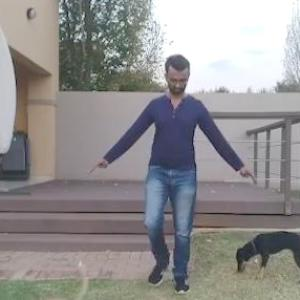land: (94, 69, 233, 290)
